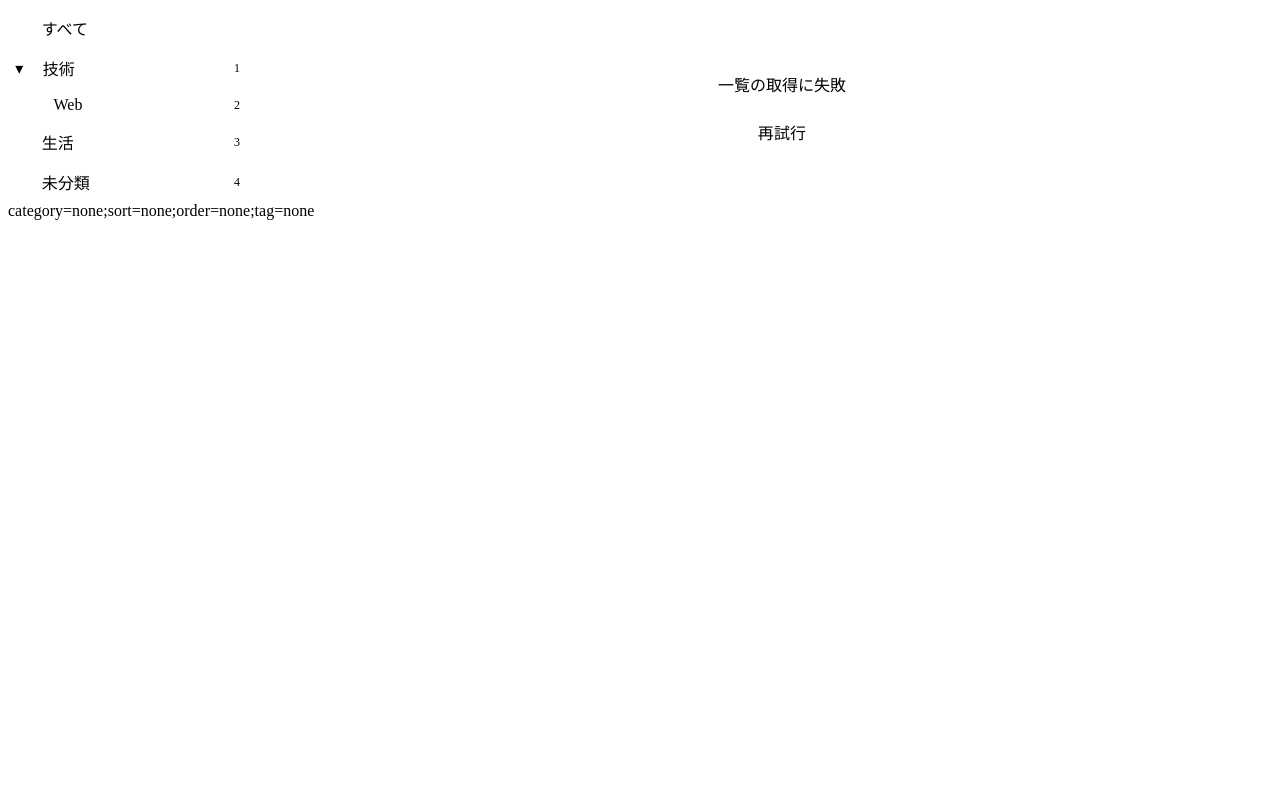
Test: CategoryListPage — エラー › /api/notes が失敗すると ErrorState と再試行ボタンを表示し、再試行で回復する
The image size is (1280, 800).
Expected: the text "一覧の取得に失敗" is shown, x1=718 y1=77 x2=846 y2=94
What coordinates should you click on to do the following:
click the button "再試行"
I would click on:
 (782, 132)
Its box is x1=734 y1=112 x2=830 y2=152.
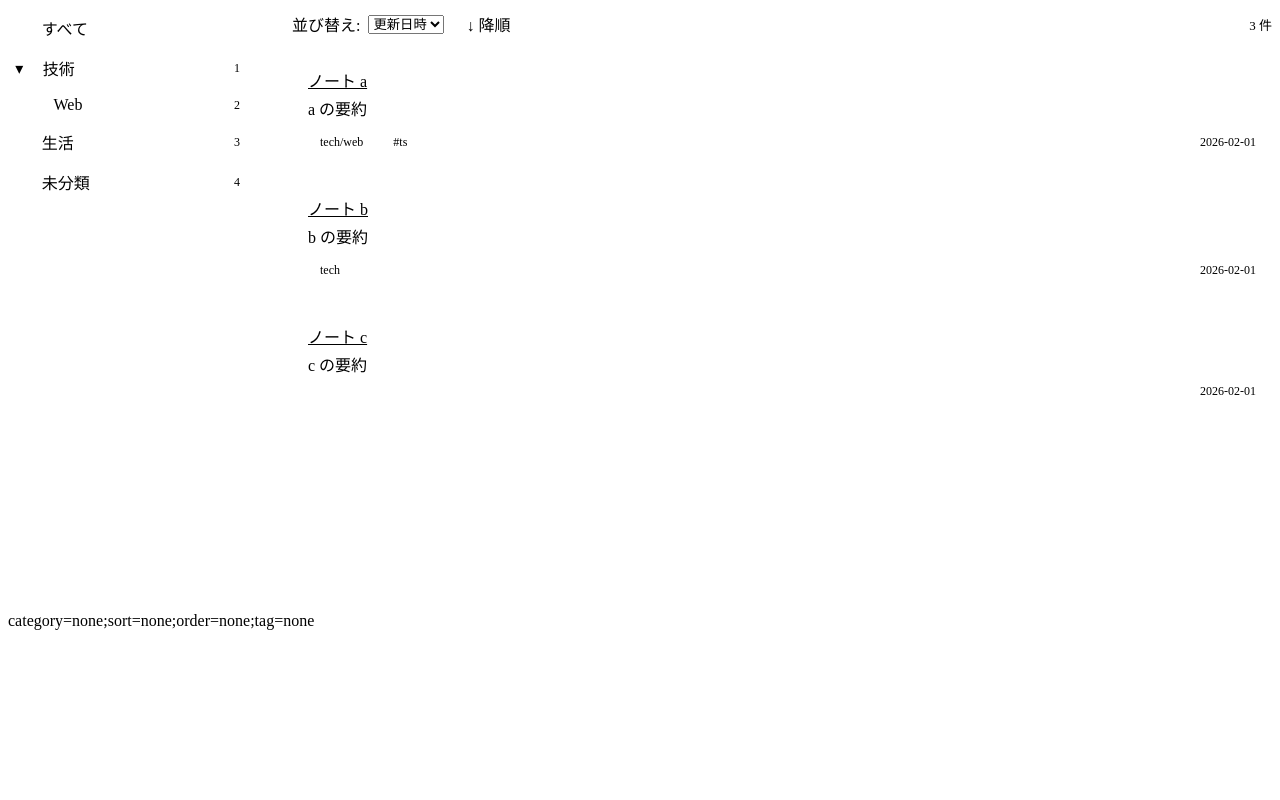
Result: the dropdown named "並び替え" is shown at x1=368 y1=14 x2=444 y2=34
